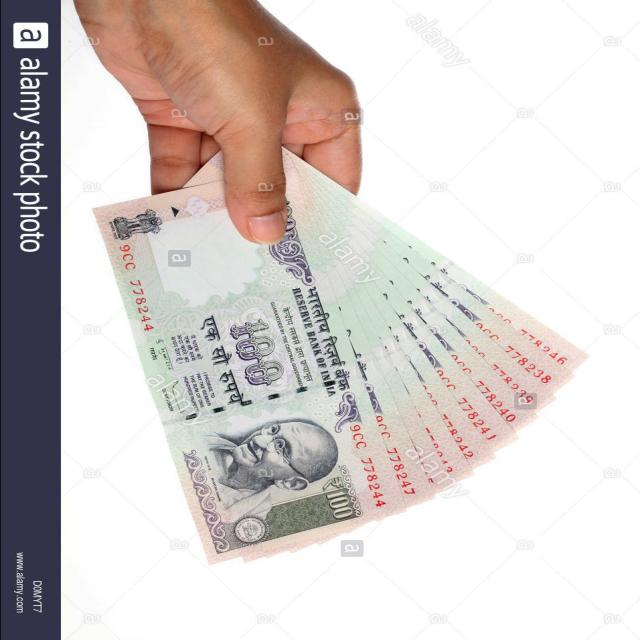100IndianRupees: (105, 178, 406, 566)
